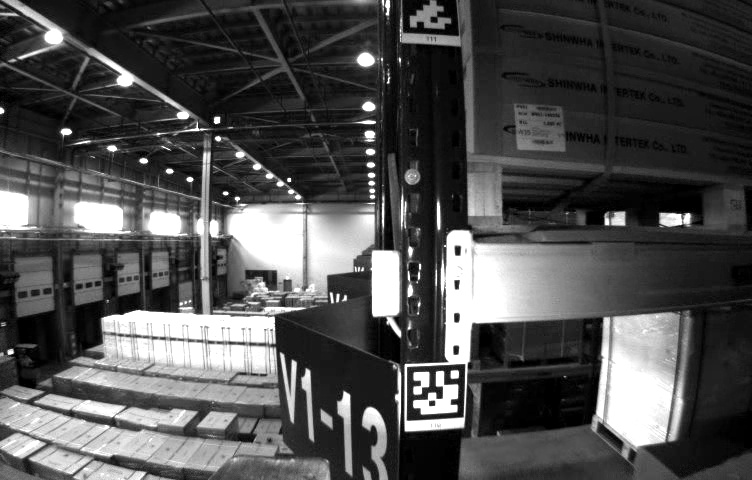True Barcode: (514, 103, 568, 153)
